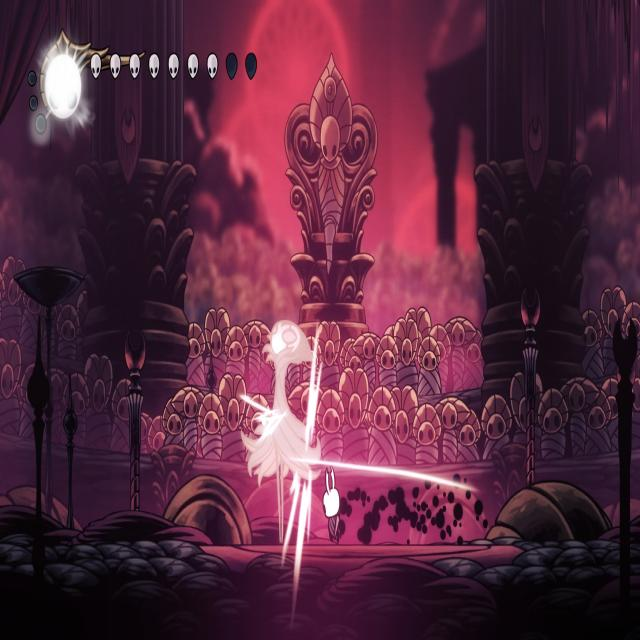Grimm: (240, 318, 322, 543)
Player: (320, 464, 352, 547)
